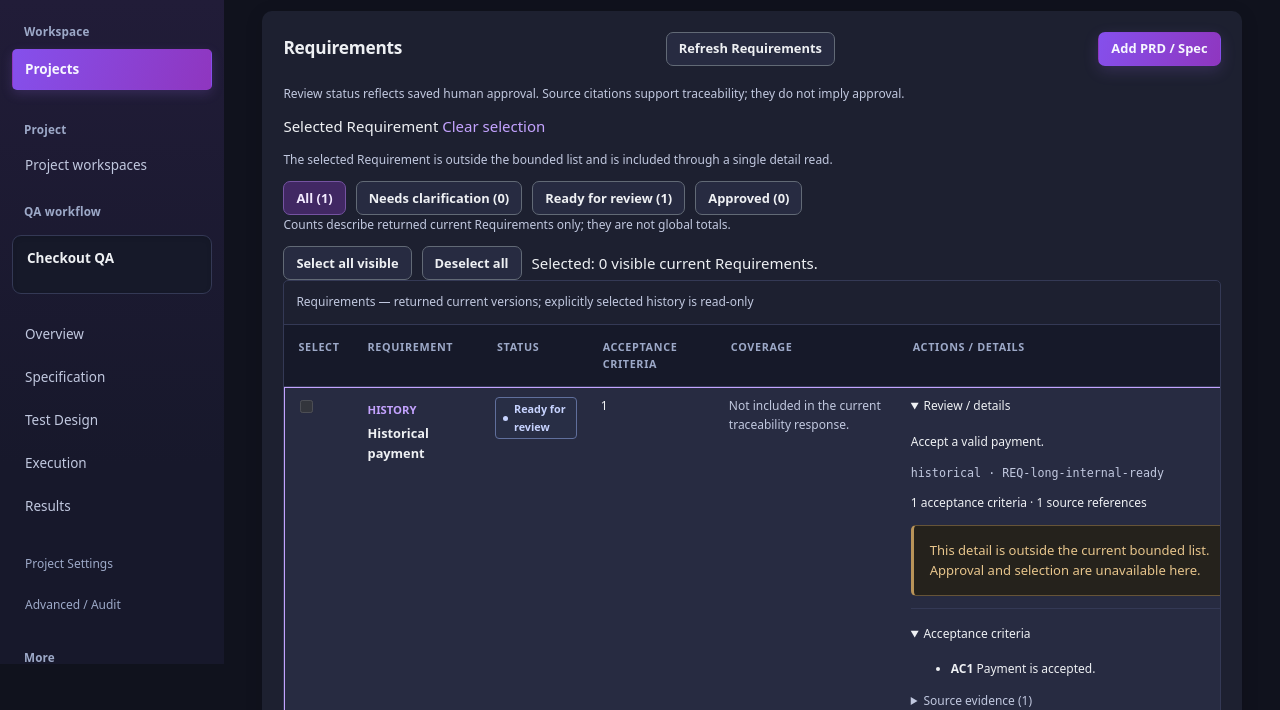
Requirements work table › never selects a detail outside the returned current list or fans out
(page scrolled)
Expected: the heading "Historical payment" is shown, [368, 424, 429, 462]
Expected: the checkbox named "Select HISTORY" is disabled, [300, 400, 313, 413]
Step 1. Click the button "Select all visible" → (348, 263), box [283, 246, 412, 280]
(page scrolled)
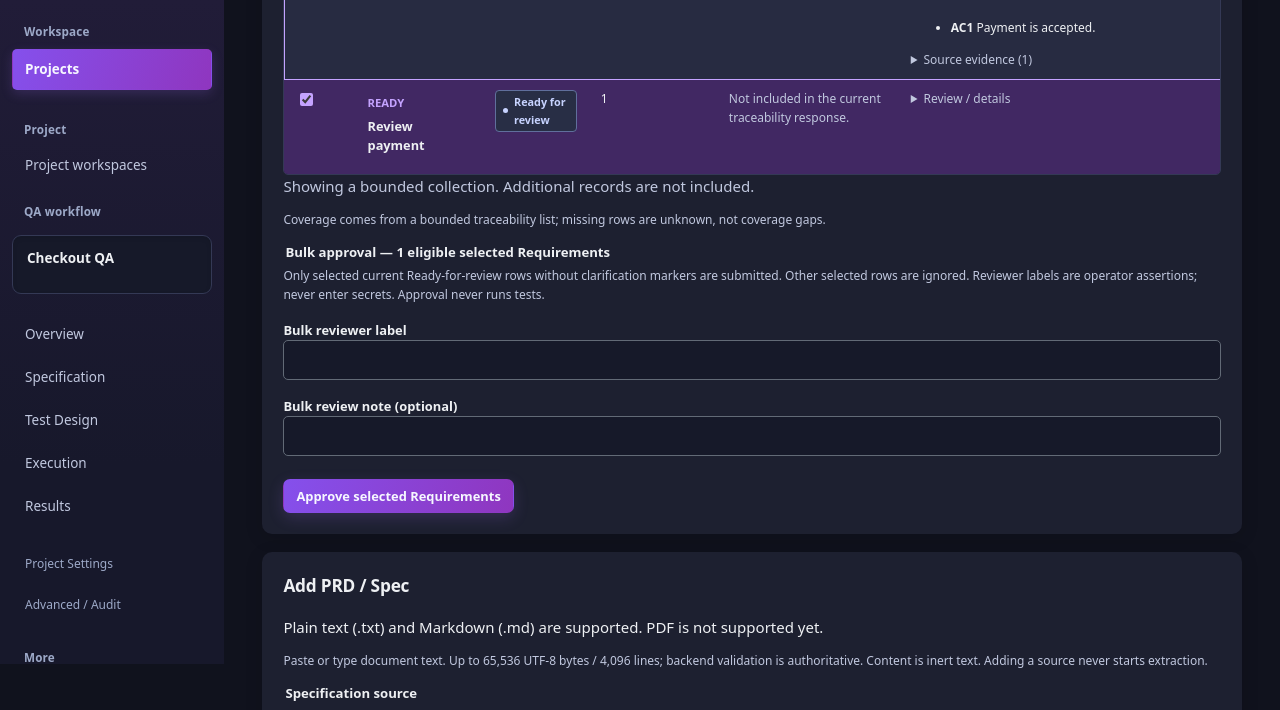
Step 2. Type "qa-human" into the field labelled "Bulk reviewer label" → (752, 360), box [283, 340, 1221, 380]
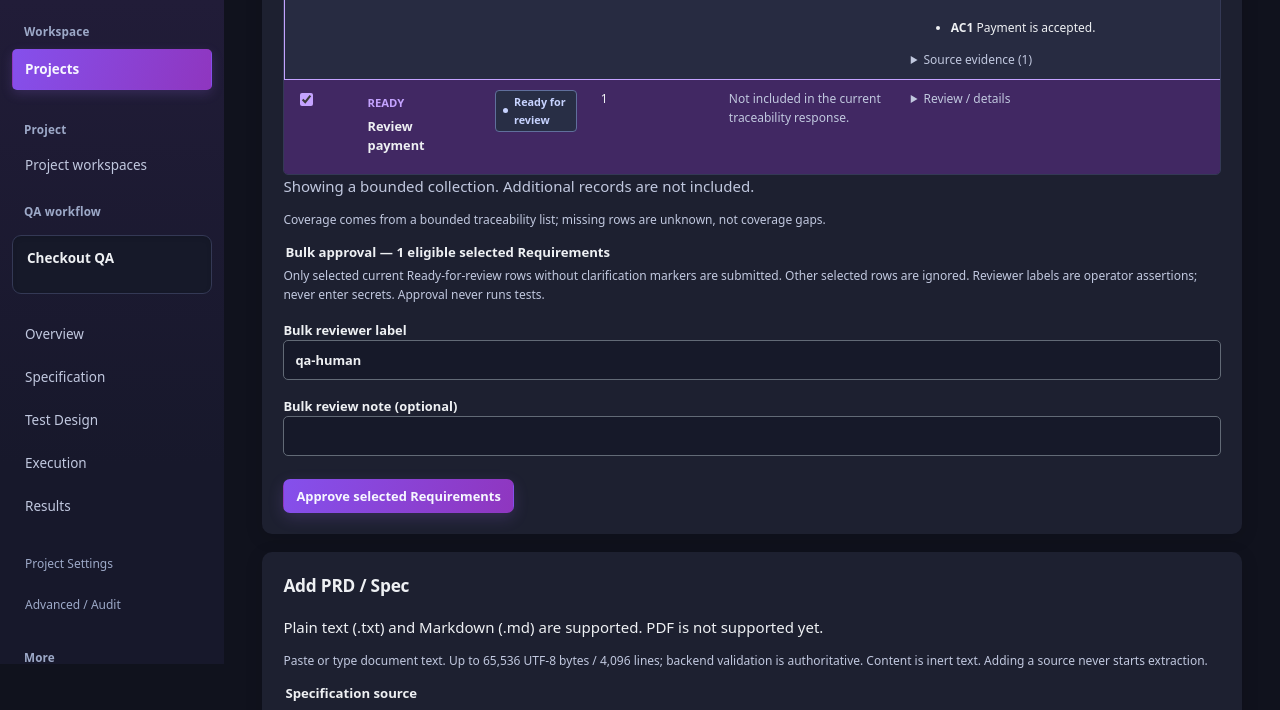
Step 3. Submit the form named "Bulk approve Requirements", box [283, 242, 1221, 513]
(page scrolled)
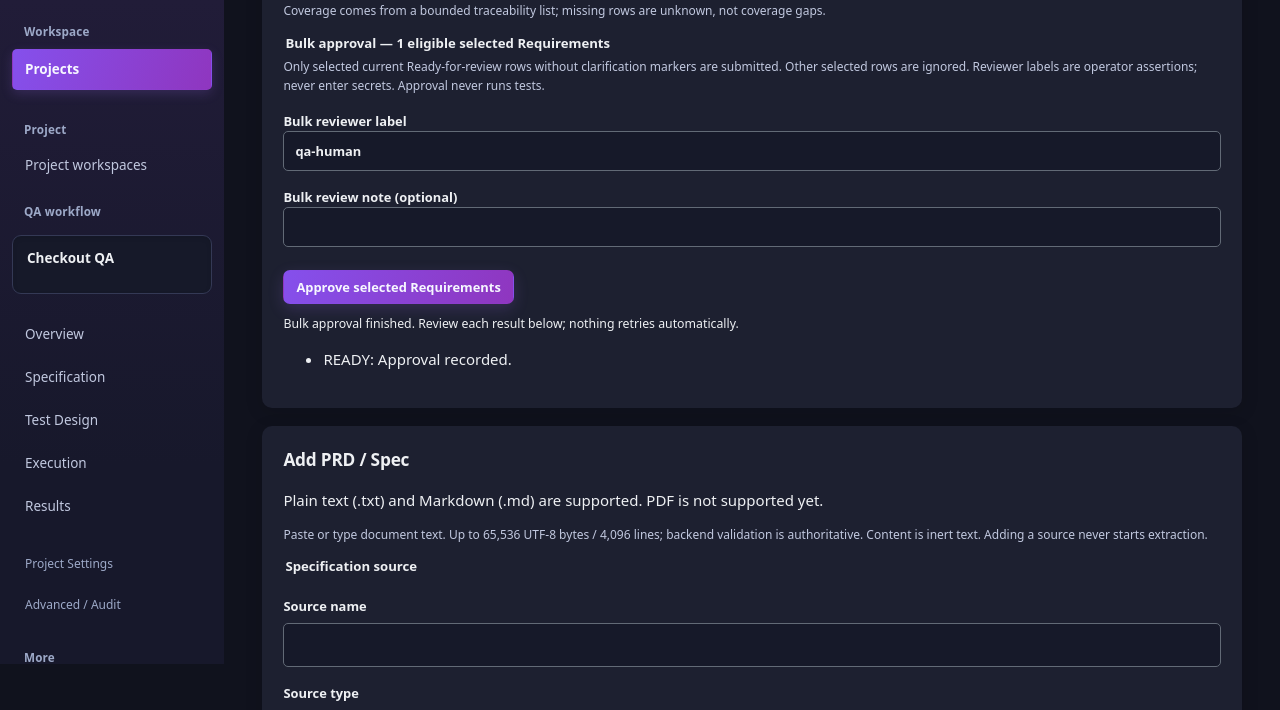
Now the list named "Bulk approval results" is shown, box [323, 349, 512, 369]
